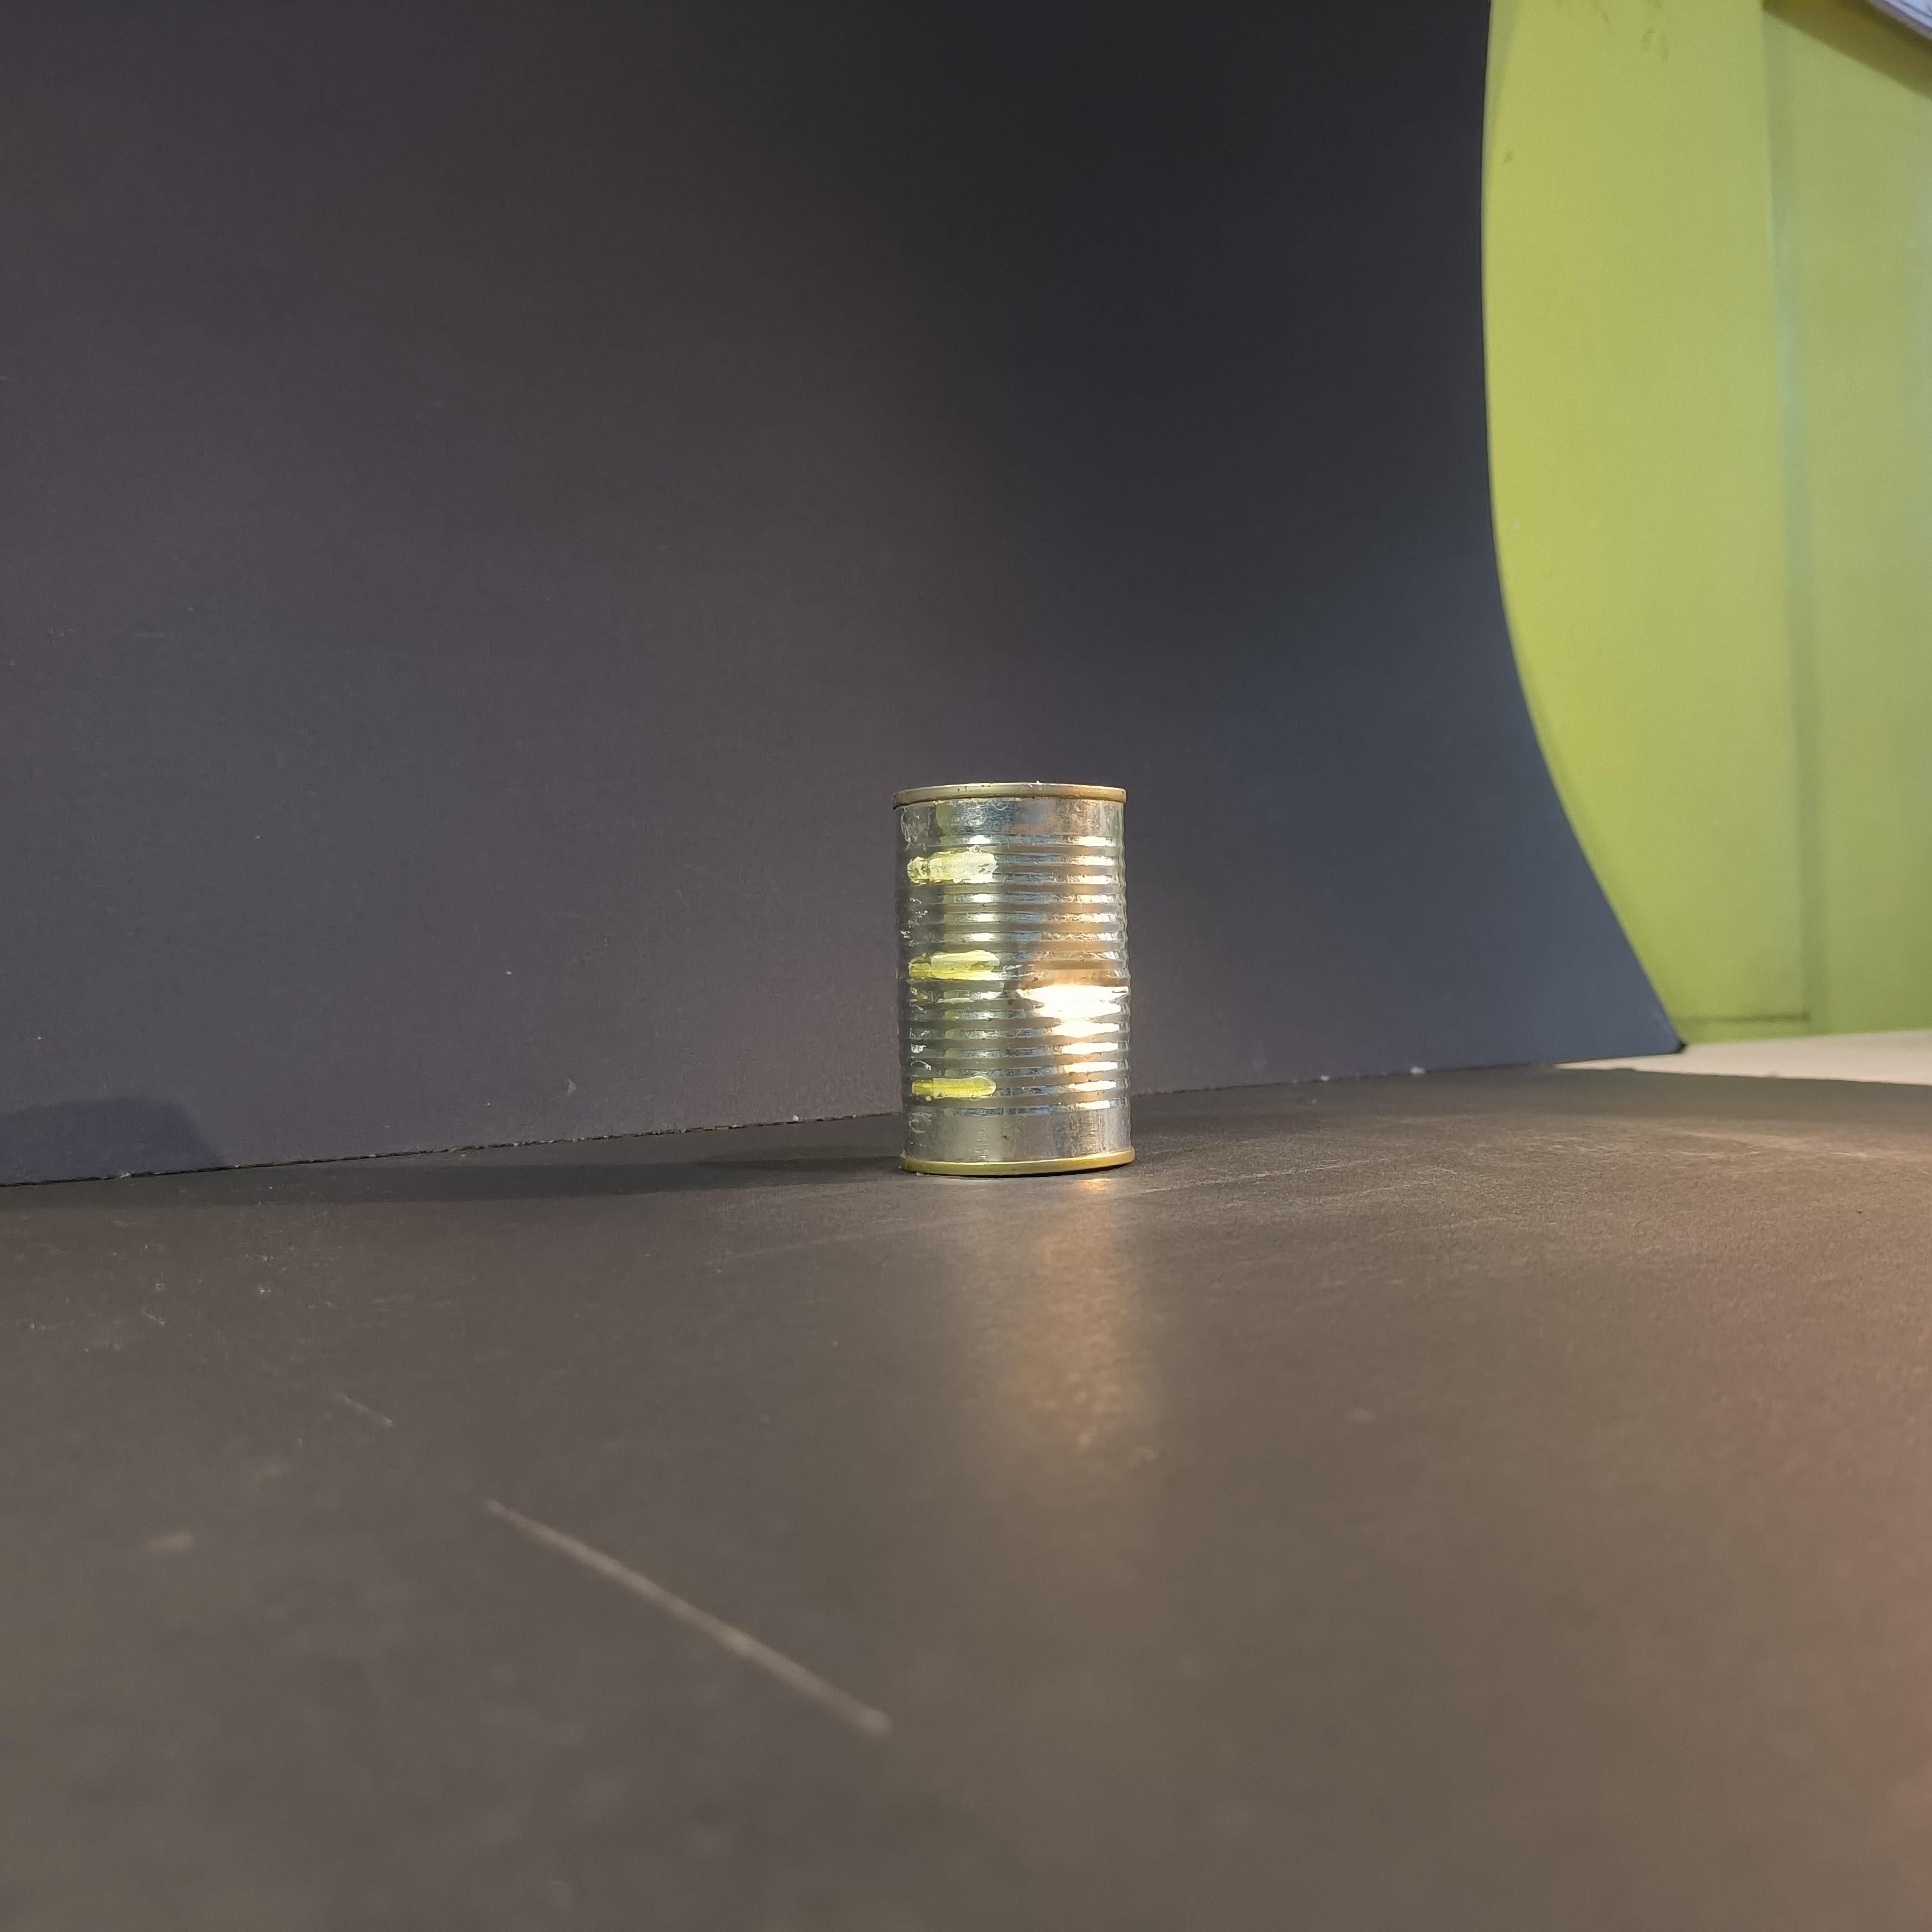Dented: (874, 748, 1152, 1171)
